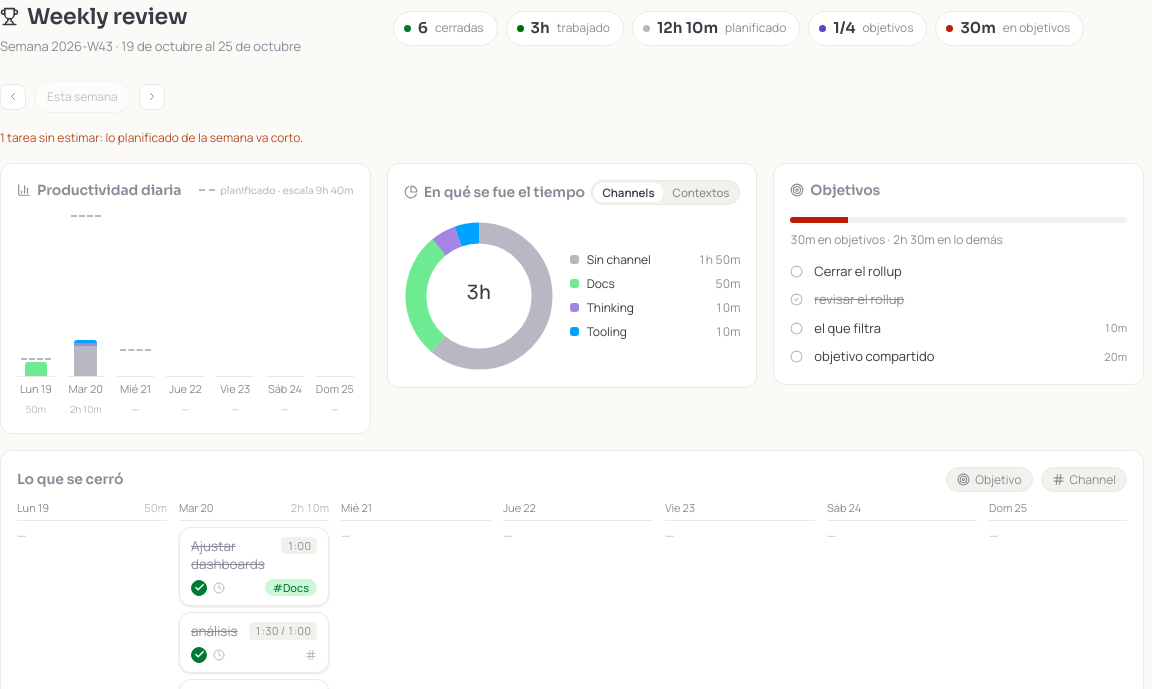
Scenario: WeeklyReviewView › el dropdown de channel filtra junto con el de objetivo, no en vez de
What coordinates should you click on to do the following:
click the button "objetivo compartido"
I would click on:
 (874, 356)
Its box is [810,346,1097,368].
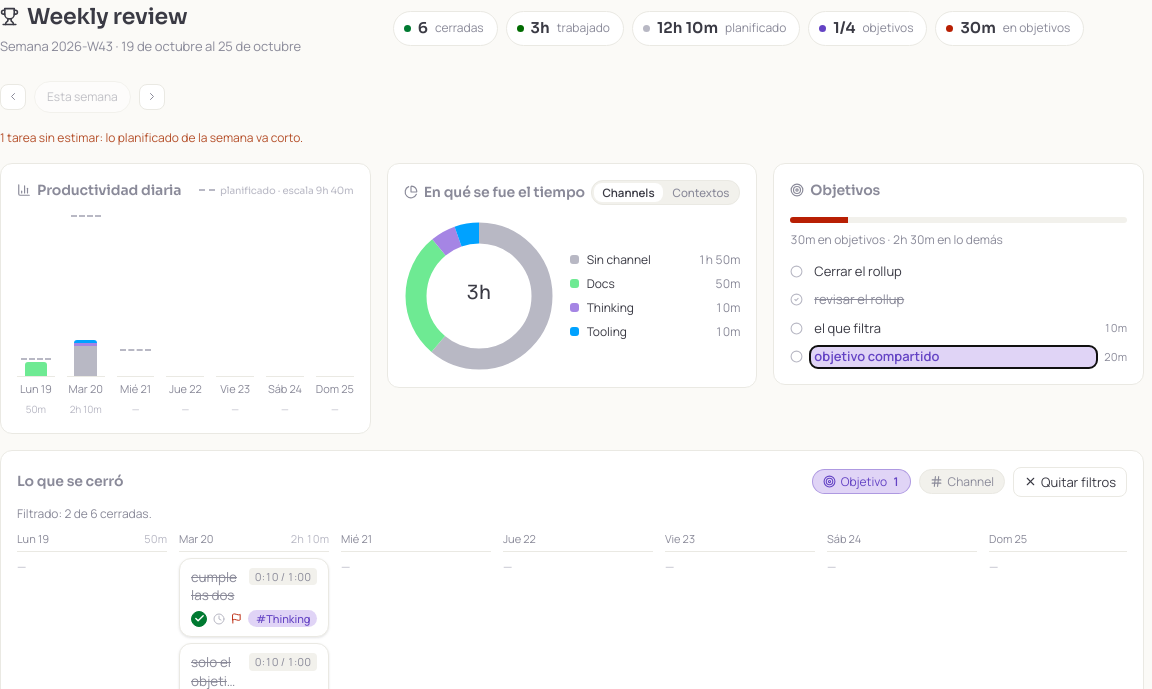
What coordinates should you click on to do the following:
click the button with aria-label "Filtrar por channel"
I would click on:
 (962, 482)
Its box is [919,469,1005,494].
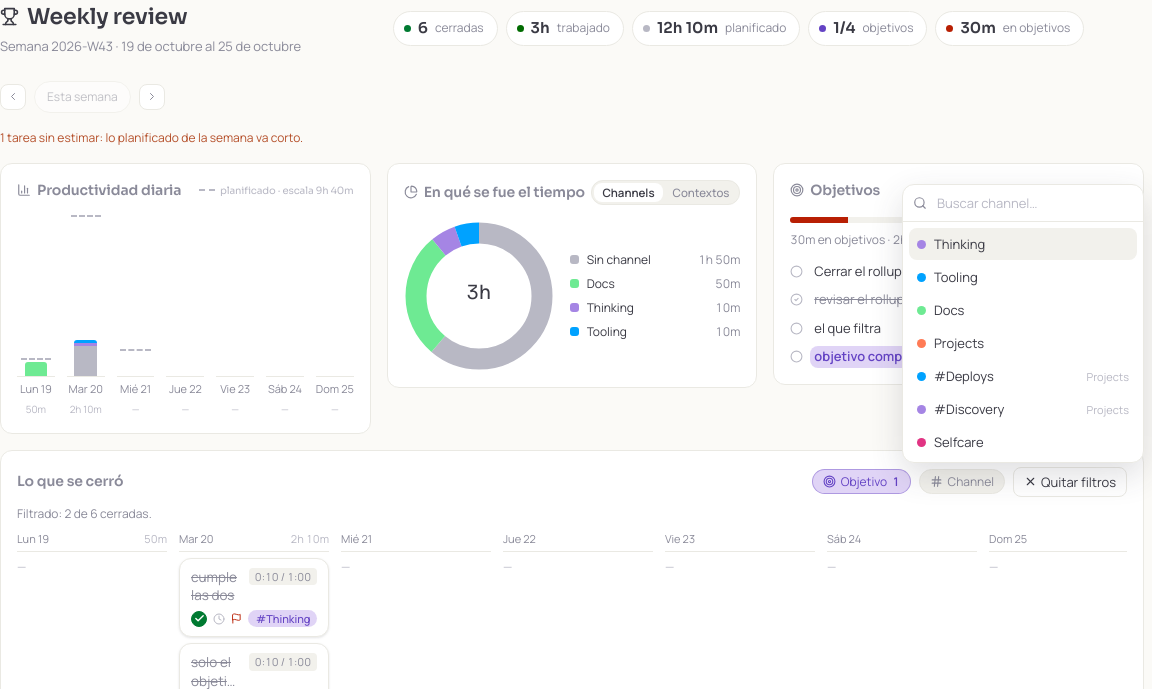
Note: Por rol: el nombre del channel también está en el chip de las cards.
What coordinates should you click on to do the following:
click the option "Thinking"
I would click on:
 (1023, 244)
Its box is [909,228,1137,260].
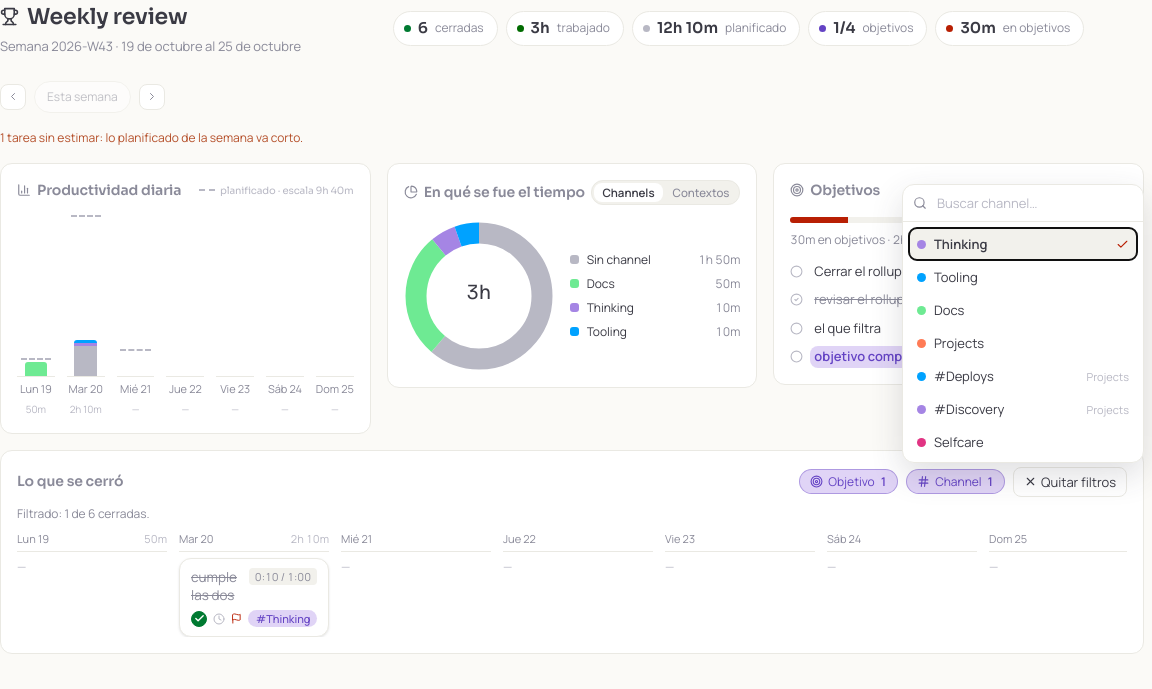
Expected: the text "cumple las dos" is shown, [191,568,241,604]
Expected: the text "solo el objetivo" is gone
